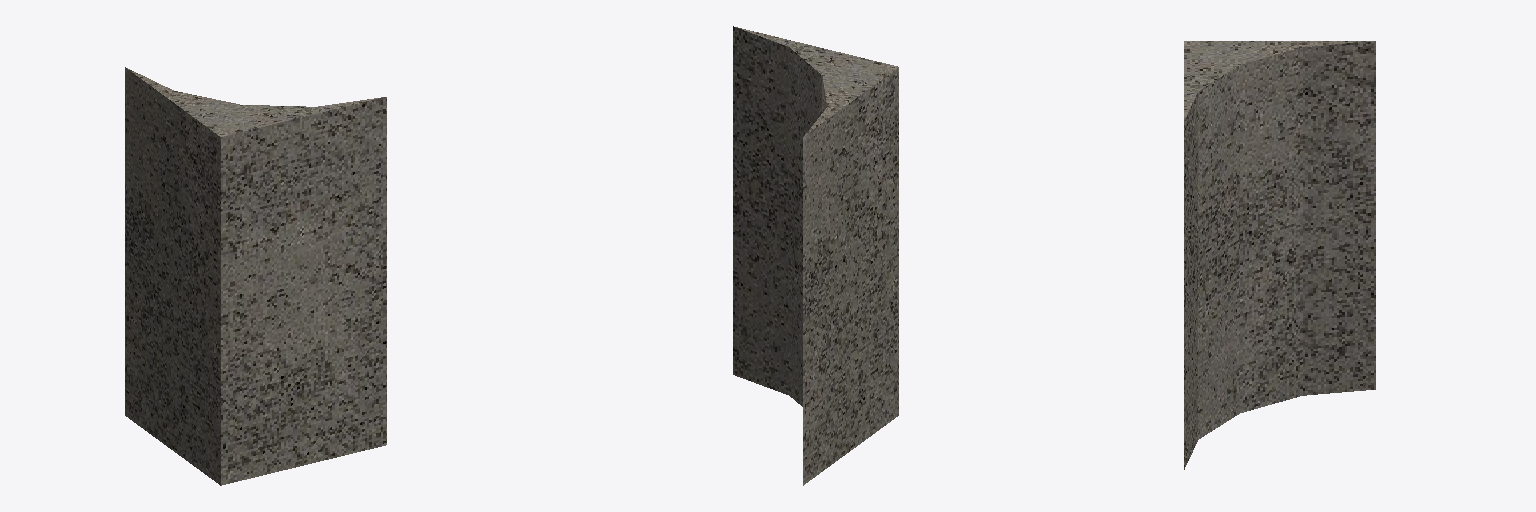
The picture shows the model from 3 angles: view 1: azimuth 30°, elevation 25°; view 2: azimuth 150°, elevation 25°; view 3: azimuth 270°, elevation 25°; orthographic projection.
Bounding box in the file's own units: 1 × 2 × 1.
1 materials, 1 textured.